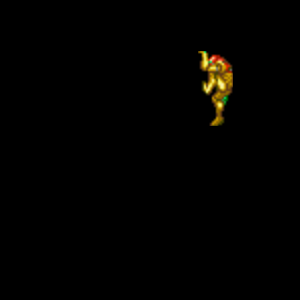Collectible: (198, 51, 233, 126)
